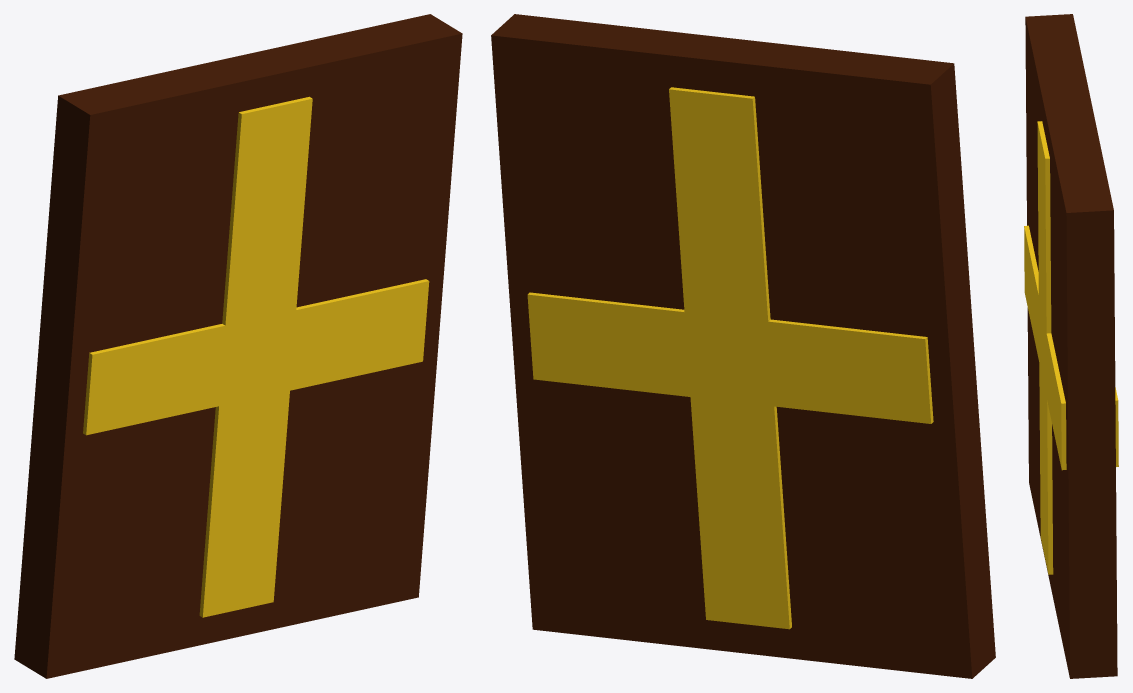
The model's file is shield0004.glb.
3 renders of one model, left to right at view 1: azimuth 30°, elevation 25°; view 2: azimuth 150°, elevation 25°; view 3: azimuth 270°, elevation 25°, orthographic. The views are drawn at different scales.
Parts seen in each view (by area): view 1: shield0004_export; view 2: shield0004_export; view 3: shield0004_export.
Part boxes in pixels (left/top/right/bottom): shield0004_export: left=14, top=14, right=462, bottom=678; shield0004_export: left=491, top=14, right=995, bottom=678; shield0004_export: left=1024, top=14, right=1118, bottom=678.
Size of the model in its own units: 0.3959 by 0.5031 by 0.0843.
